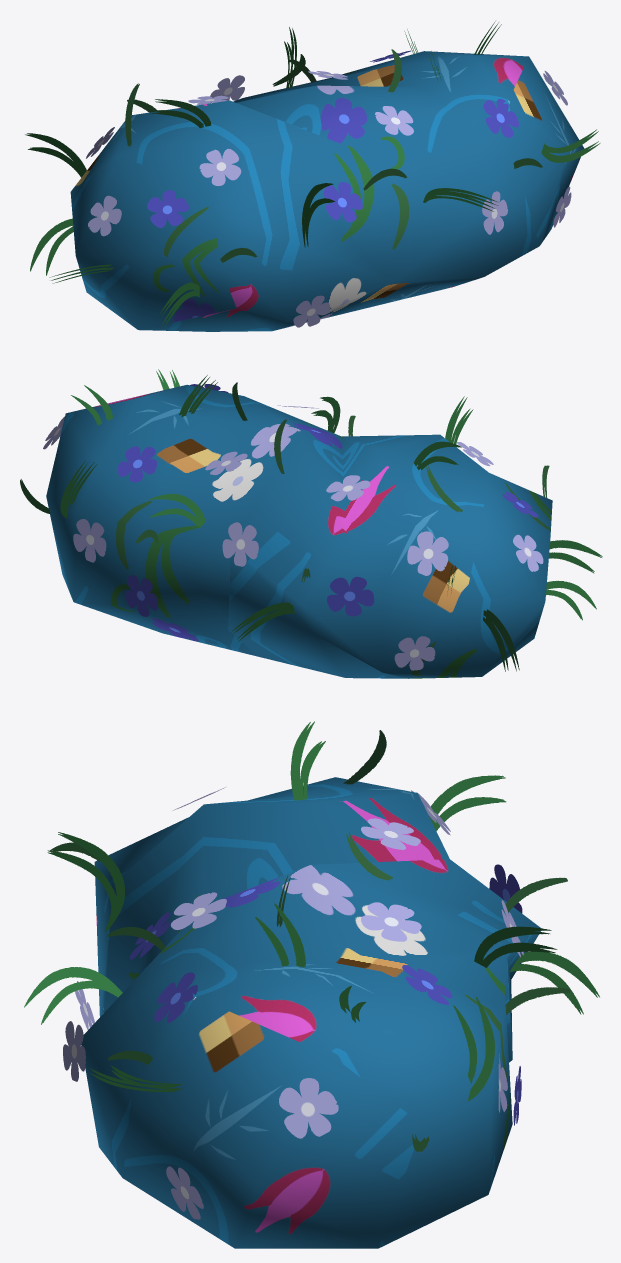
The model's file is bush3.obj.
3 views of the same model, one above another, from view 1: azimuth 30°, elevation 25°; view 2: azimuth 150°, elevation 25°; view 3: azimuth 270°, elevation 25° (orthographic). The views are drawn at different scales.
Parts seen in each view (by area): view 1: bush3_Icosphere.006; view 2: bush3_Icosphere.006; view 3: bush3_Icosphere.006.
Boxes of the visible parts, <box> form: bush3_Icosphere.006: <box>25,21,600,331</box>; bush3_Icosphere.006: <box>20,369,602,678</box>; bush3_Icosphere.006: <box>24,721,599,1248</box>.
Bounding box in the file's own units: 6.26 × 2.86 × 4.34.
